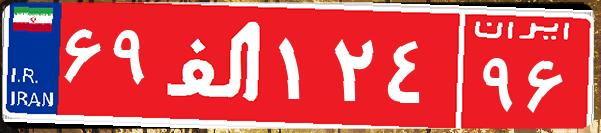1: (273, 28, 330, 110)
2: (330, 28, 385, 110)
4: (385, 28, 445, 110)
6: (57, 26, 110, 107), (525, 38, 570, 115)
9: (475, 38, 525, 113), (110, 28, 158, 105)
الف: (158, 15, 273, 115)
